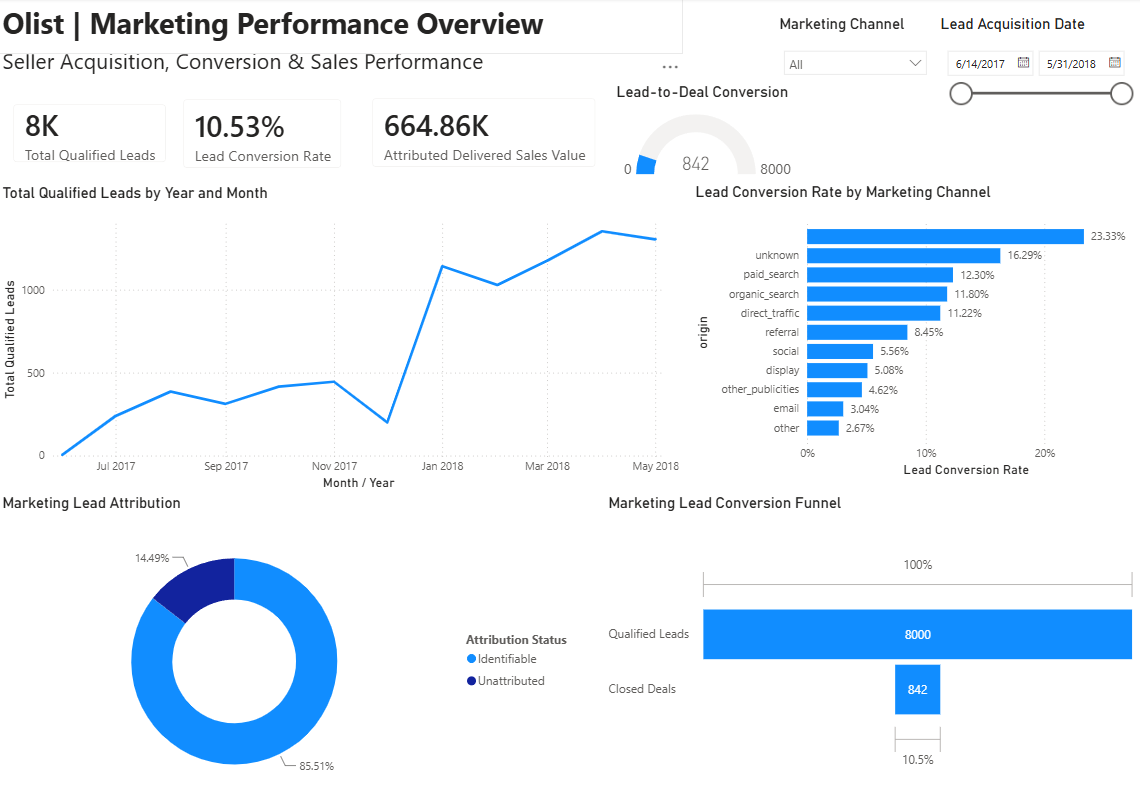

This screenshot's page, from the dashboard's own definition file:
{"tool":"powerbi","page":{"name":"Executive Overview","canvas":[1280,900],"ordinal":0},"visuals":[{"type":"cardVisual","fields":{"Data":["olist_marketing marketing_qualified_leads.Total Qualified Leads"]},"box":[0,101.9,205.2,99.2],"z":0},{"type":"gauge","title":"Lead-to-Deal Conversion","fields":{"Y":["olist_marketing marketing_qualified_leads.Total Closed Deals"],"MaxValue":["olist_marketing marketing_qualified_leads.Total Qualified Leads"]},"box":[687.3,95.1,213.8,111.9],"z":1000},{"type":"cardVisual","fields":{"Data":["olist_marketing marketing_qualified_leads.Lead Conversion Rate"]},"box":[190.3,96.3,211.1,111.9],"z":2000},{"type":"cardVisual","fields":{"Data":["olist_marketing marketing_qualified_leads.Attributed Delivered Sales Value"]},"box":[401.9,95.1,285,111.9],"z":3000},{"type":"textbox","box":[0,48.6,610.8,47.7],"z":4000},{"type":"funnel","title":"Marketing Lead Conversion Funnel","fields":{"Category":["Table.Stage"],"Y":["Table.Funnel Value"]},"box":[678.4,555.2,601.1,344.8],"z":5000},{"type":"lineChart","fields":{"Y":["olist_marketing marketing_qualified_leads.Total Qualified Leads"],"Category":["olist_marketing marketing_qualified_leads.contact_date_clean.Variation.Date Hierarchy.Year","olist_marketing marketing_qualified_leads.contact_date_clean.Variation.Date Hierarchy.Month"]},"box":[0,208.2,766.8,347],"z":6000},{"type":"clusteredBarChart","title":"Lead Conversion Rate by Marketing Channel","fields":{"Category":["olist_marketing marketing_qualified_leads.origin"],"Y":["olist_marketing marketing_qualified_leads.Lead Conversion Rate"]},"box":[775.7,207.1,503.7,333.6],"z":7000},{"type":"slicer","title":"Marketing Channel","fields":{"Values":["olist_marketing marketing_qualified_leads.origin"]},"box":[869.8,19,180,71.6],"z":8000},{"type":"slicer","title":"Lead Acquisition Date","fields":{"Values":["olist_marketing marketing_qualified_leads.contact_date_clean"]},"box":[1050,19,229.5,106.3],"z":9000},{"type":"donutChart","title":"Marketing Lead Attribution","fields":{"Category":["olist_marketing marketing_qualified_leads.Attribution Status"],"Y":["olist_marketing marketing_qualified_leads.Total Qualified Leads"]},"box":[0,555.2,654.9,344.8],"z":10000},{"type":"textbox","box":[0,0,766.4,63.2],"z":11000}]}

Visuals, with their boxes in screenshot pixels (x1, y1, x2, y2), scaled from the page's 1280x900 canvas onto the 1140x800 screenshot:
cardVisual - olist_marketing marketing_qualified_leads.Total Qualified Leads: bbox=[0, 91, 183, 179]
"Lead-to-Deal Conversion" gauge: bbox=[612, 85, 803, 184]
cardVisual - olist_marketing marketing_qualified_leads.Lead Conversion Rate: bbox=[169, 86, 357, 185]
cardVisual - olist_marketing marketing_qualified_leads.Attributed Delivered Sales Value: bbox=[358, 85, 612, 184]
textbox: bbox=[0, 43, 544, 86]
"Marketing Lead Conversion Funnel" funnel: bbox=[604, 494, 1139, 799]
lineChart - olist_marketing marketing_qualified_leads.Total Qualified Leads x olist_marketing marketing_qualified_leads.contact_date_clean.Variation.Date Hierarchy.Year: bbox=[0, 185, 683, 494]
"Lead Conversion Rate by Marketing Channel" clusteredBarChart: bbox=[691, 184, 1139, 481]
"Marketing Channel" slicer: bbox=[775, 17, 935, 81]
"Lead Acquisition Date" slicer: bbox=[935, 17, 1139, 111]
"Marketing Lead Attribution" donutChart: bbox=[0, 494, 583, 799]
textbox: bbox=[0, 0, 683, 56]
